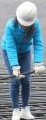boots: (20, 104, 34, 118), (12, 107, 21, 119)
gloves: (12, 64, 21, 76), (0, 71, 8, 84)
hard-hat: (0, 34, 11, 61)
